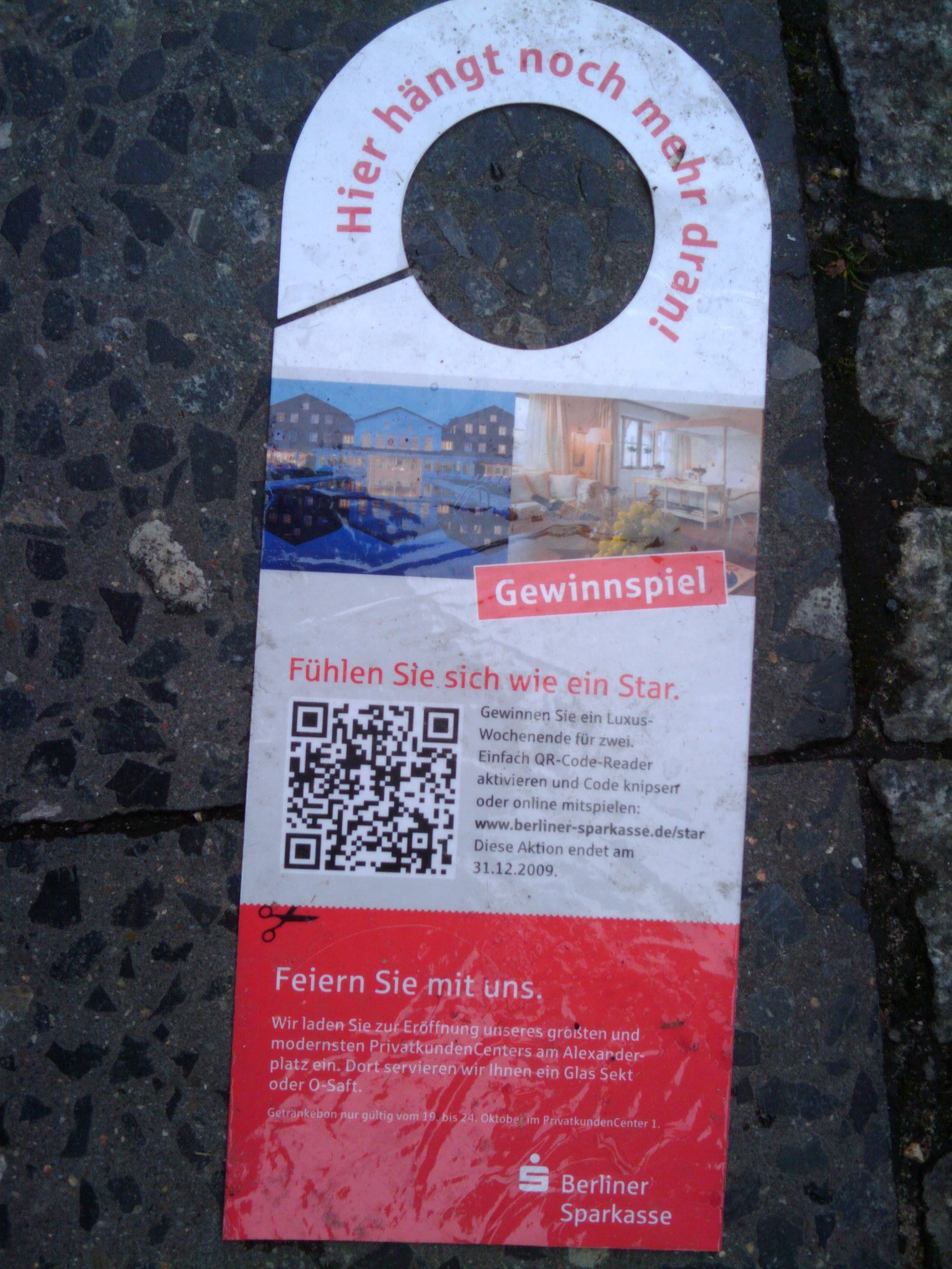QR-CODE: (284, 701, 458, 874)
